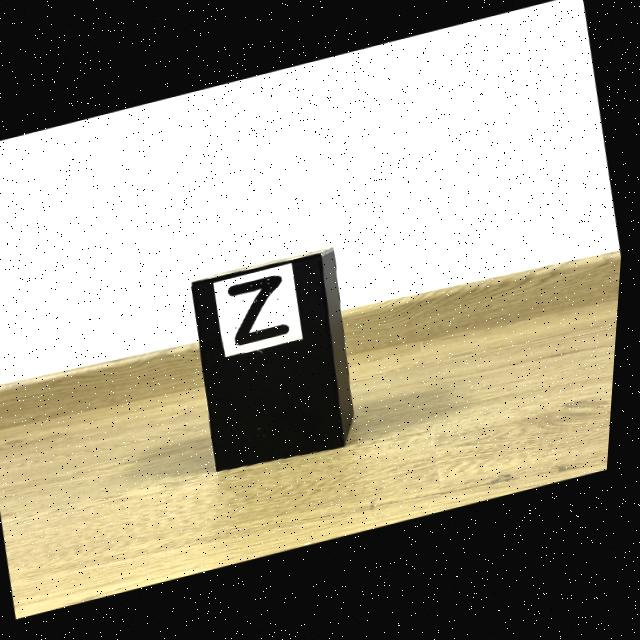Z: (232, 278, 294, 348)
